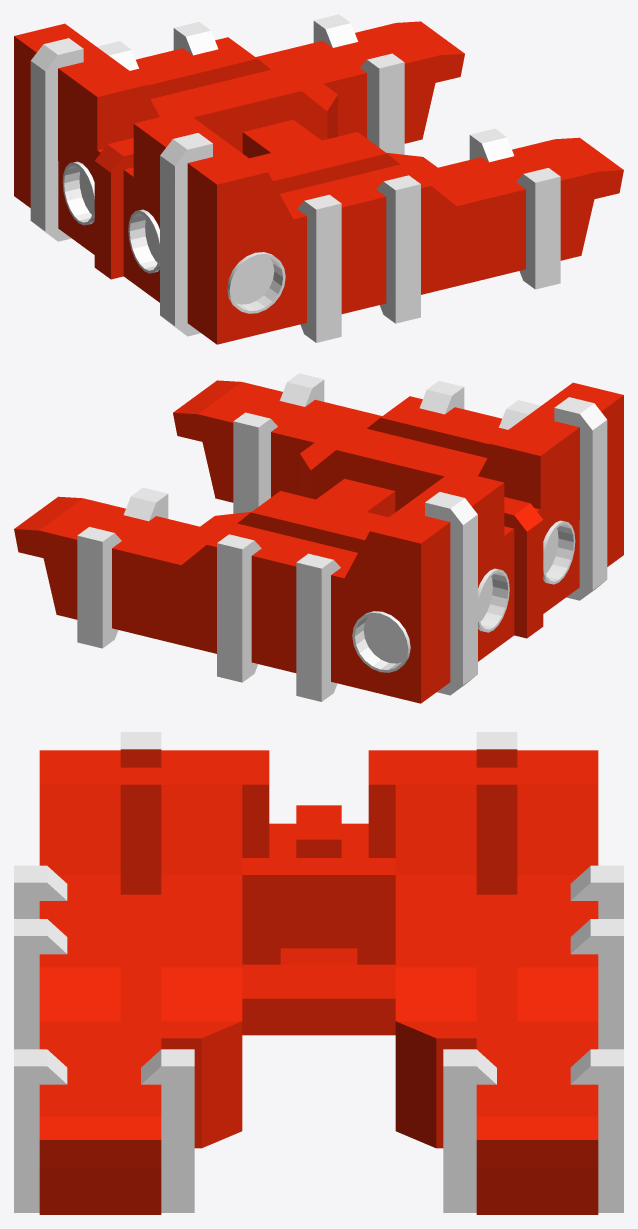
File: VitalResProdLOD1.FBX
3 views of the same model, one above another, from view 1: azimuth 30°, elevation 25°; view 2: azimuth 150°, elevation 25°; view 3: azimuth 270°, elevation 25° (orthographic). The views are drawn at different scales.
Parts seen in each view (by area): view 1: Модуль, производства ресурса жизнеобеспечения ПРЖ001; view 2: Модуль, производства ресурса жизнеобеспечения ПРЖ001; view 3: Модуль, производства ресурса жизнеобеспечения ПРЖ001.
Boxes of the visible parts, x1,y1,x2,y2 form: Модуль, производства ресурса жизнеобеспечения ПРЖ001: [14, 14, 623, 344]; Модуль, производства ресурса жизнеобеспечения ПРЖ001: [14, 373, 623, 703]; Модуль, производства ресурса жизнеобеспечения ПРЖ001: [14, 732, 623, 1214].
Size of the model in its own units: 494 by 452 by 210.
